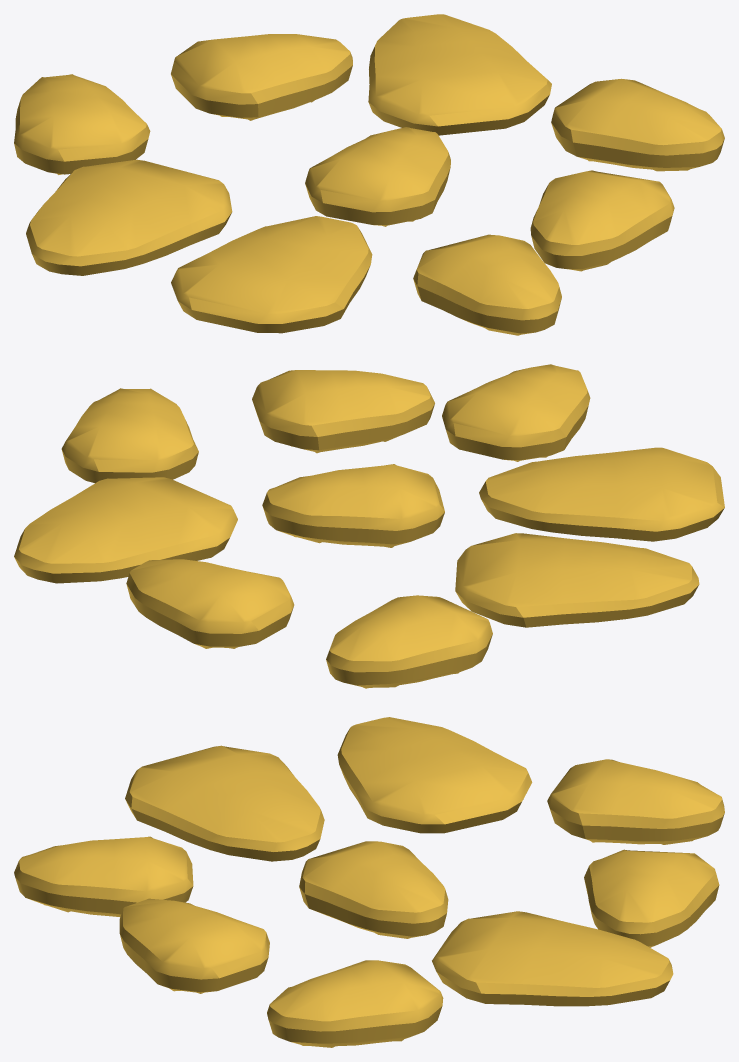
Rendered from Yellow4_seed.fbx.
The picture shows the model from 3 angles, top to bottom: view 1: azimuth 30°, elevation 25°; view 2: azimuth 150°, elevation 25°; view 3: azimuth 270°, elevation 25°; orthographic projection.
Parts seen in each view (by area): view 1: seed1.047, seed1.048, seed1.050, seed1.040, seed1.051, seed1.041, seed1.052, seed1.053, seed1.044; view 2: seed1.047, seed1.048, seed1.050, seed1.052, seed1.053, seed1.044, seed1.040, seed1.041, seed1.051; view 3: seed1.050, seed1.048, seed1.047, seed1.044, seed1.051, seed1.041, seed1.053, seed1.052, seed1.040.
Boxes of the visible parts, x1,y1,x2,y2 form: seed1.047: (26,159,232,275); seed1.048: (171,216,372,333); seed1.050: (368,14,551,135); seed1.040: (171,34,352,120); seed1.051: (551,78,724,171); seed1.041: (413,234,561,335); seed1.052: (530,170,674,271); seed1.053: (305,127,450,226); seed1.044: (14,74,150,174); seed1.047: (455,533,699,627); seed1.048: (479,447,724,541); seed1.050: (14,477,237,583); seed1.052: (252,370,434,453); seed1.053: (262,464,444,547); seed1.044: (326,595,492,688); seed1.040: (126,559,294,648); seed1.041: (442,364,590,461); seed1.051: (61,388,198,483); seed1.050: (432,911,673,1006); seed1.048: (125,745,324,861); seed1.047: (337,717,532,833); seed1.044: (547,759,724,844); seed1.051: (267,960,443,1047); seed1.041: (14,836,193,916); seed1.053: (299,841,448,938); seed1.052: (119,898,269,993); seed1.040: (584,849,719,947).
Size of the model in its own units: 100 by 8.72 by 97.88.
